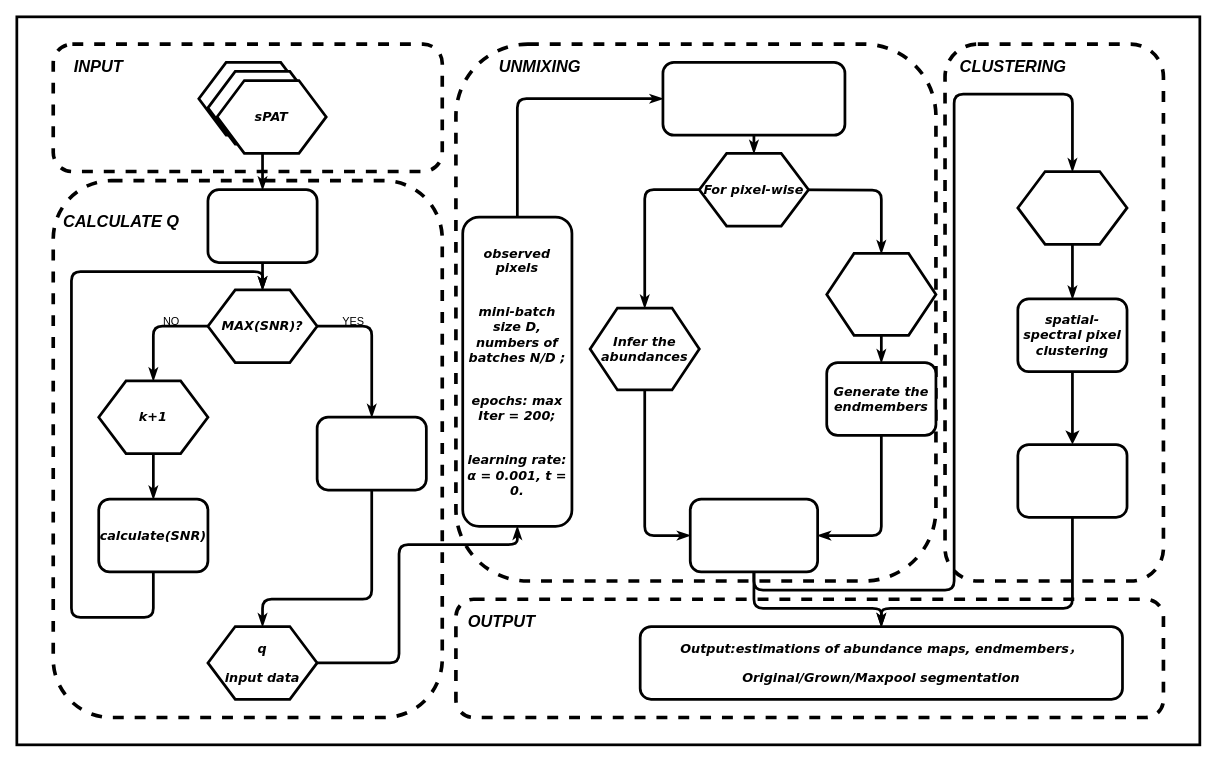
This 1217x762 diagram has some shape labels left out. Each missing label, with the centre of its shape:
"Elbow method--k" goes at [262,225].
"Infer the latent variables" goes at [881,294].
"Original/Grown/Maxpool segmentation" goes at [1072,480].
"q=k" goes at [371,453].
"Source Spectra Abundance Maps" goes at [753,535].
"Synthesis of Monospectral Components" goes at [1072,207].
"Unsupervised unmixing PKGMSU" goes at [753,98].
